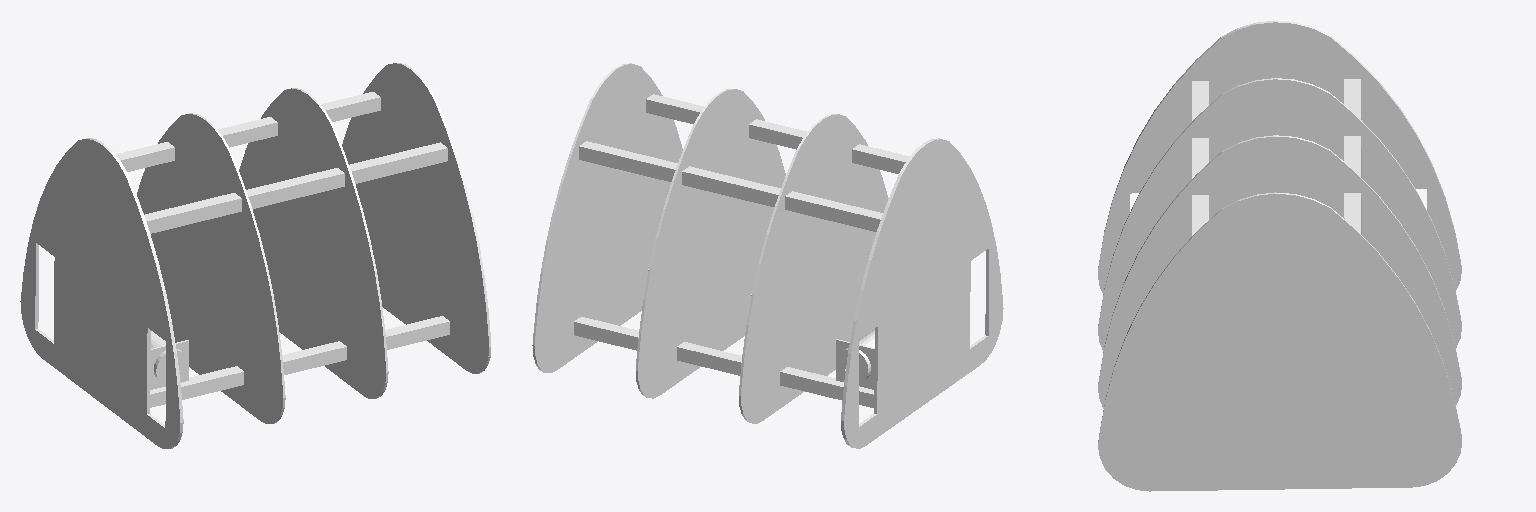
URDF robot description (tr10):
<?xml version="1.0"?>

<robot
  name="tr10">
  <link
    name="base_link">
    <inertial>
      <origin
        xyz="-0.028595 -0.045347 0.49115"
        rpy="0 0 0" />
      <mass
        value="2.5724" />
      <inertia
        ixx="0.019685"
        ixy="-6.7256E-06"
        ixz="3.4386E-06"
        iyy="0.037761"
        iyz="-0.0018177"
        izz="0.043941" />
    </inertial>
    <visual>
      <origin
        xyz="0 -0.04 -0.42"
        rpy="-1.57 0 -1.57" />
      <geometry>
        <mesh
          filename="package://tr10_controller/model/meshes/base_link.STL" />
      </geometry>
      <material
        name="">
        <color
          rgba="1 1 1 1" />
      </material>
    </visual>
    <collision>
      <origin
        xyz="0 0 0"
        rpy="-1.57 0 -1.57" />
      <geometry>
        <mesh
          filename="package://tr10_controller/model/meshes/base_link.STL" />
      </geometry>
    </collision>
  </link>
</robot>

--- Render facts (derived) ---
The picture shows the robot from 3 angles, left to right: view 1: azimuth 30°, elevation 25°; view 2: azimuth 150°, elevation 25°; view 3: azimuth 270°, elevation 25°; orthographic projection.
Robot: tr10 — 1 links, 0 joints (none); root link base_link; default pose: all joints at 0.
Visible links, largest first — view 1: base_link; view 2: base_link; view 3: base_link.
Link boxes in pixels (left/top/right/bottom): base_link: left=20, top=63, right=490, bottom=448; base_link: left=532, top=63, right=1003, bottom=448; base_link: left=1098, top=20, right=1461, bottom=491.
Bounding box of the posed robot: 0.4841 × 0.4303 × 0.3877 m (x, y, z).
Meshes: 1 distinct files referenced, 1 mesh visuals loaded (1 binary STL).